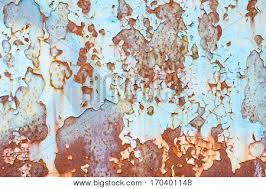rust: (51, 93, 137, 177), (133, 125, 266, 177), (113, 13, 192, 93), (1, 110, 51, 177), (74, 43, 95, 96), (207, 2, 225, 45), (63, 16, 86, 40), (244, 1, 260, 23), (75, 1, 93, 13), (251, 33, 266, 47)
